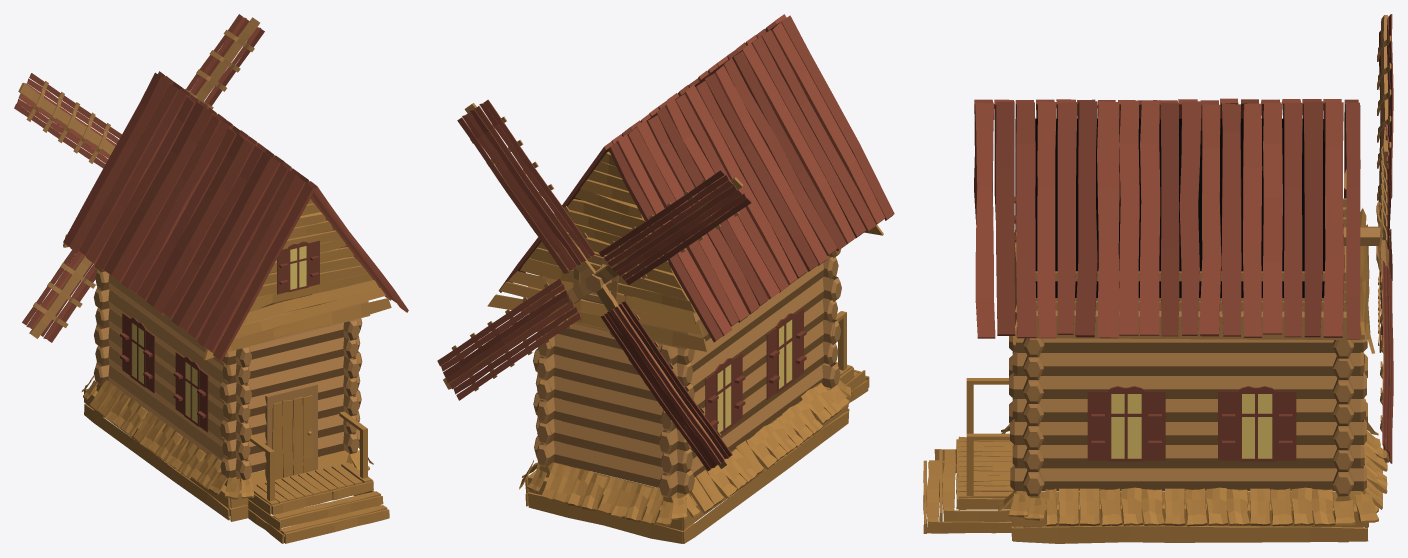
The model's file is Windmühle_klein.fbx.
3 renders of one model, left to right at view 1: azimuth 30°, elevation 25°; view 2: azimuth 150°, elevation 25°; view 3: azimuth 270°, elevation 25°, orthographic. The views are drawn at different scales.
Visible parts, largest first — view 1: Windmühle, Windrad; view 2: Windmühle, Windrad; view 3: Windmühle, Windrad.
Boxes of the visible parts, x1,y1,x2,y2 form: Windmühle: (63,71,408,543); Windrad: (14,14,264,342); Windmühle: (487,14,894,543); Windrad: (437,99,751,470); Windmühle: (923,98,1387,543); Windrad: (1343,14,1393,463).
Size of the model in its own units: 11.68 by 14.56 by 14.27.
